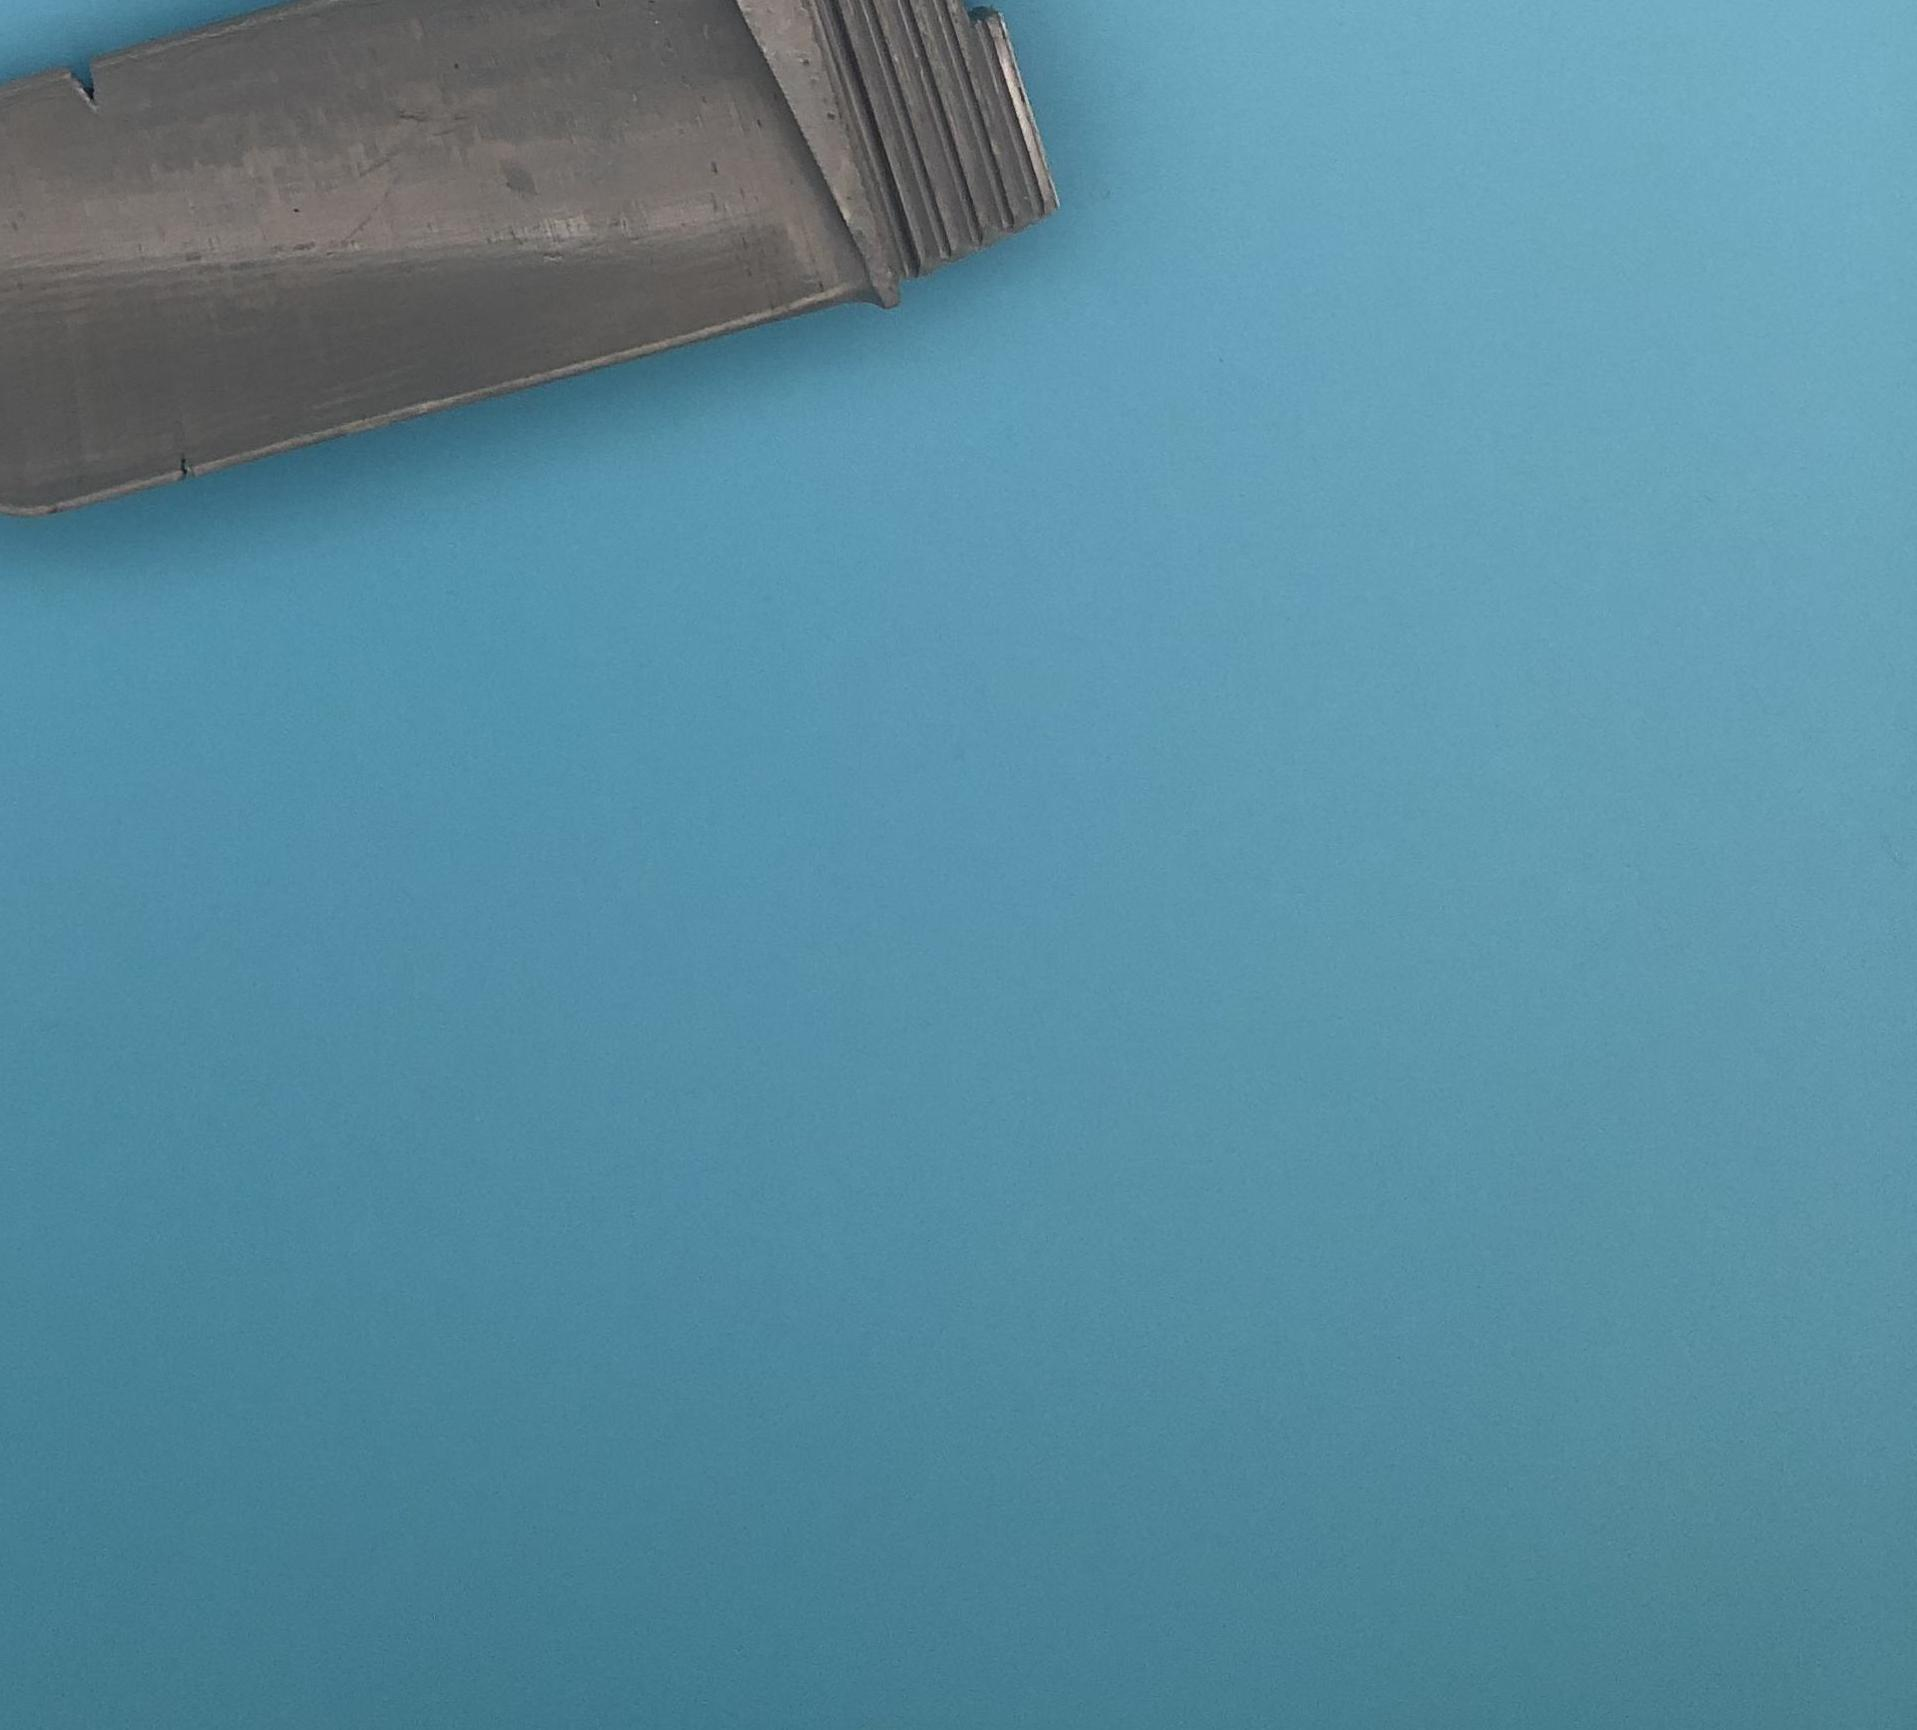groove: (57, 53, 119, 109), (165, 449, 212, 486)
